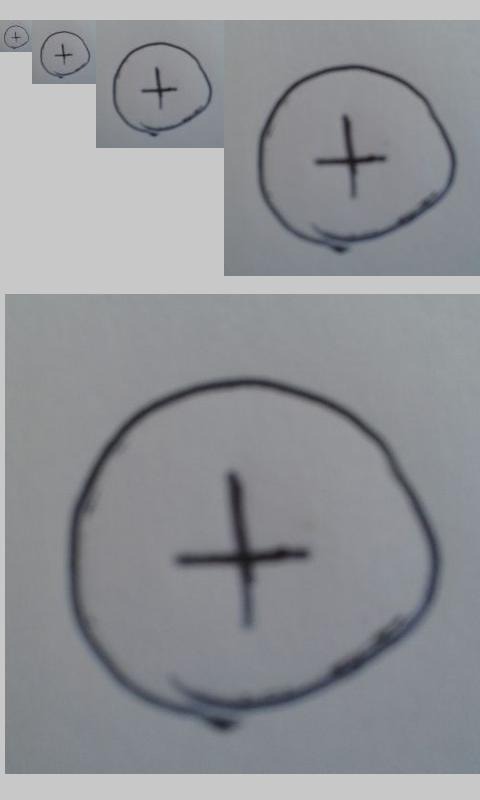button: (65, 372, 444, 730), (257, 63, 457, 252), (112, 41, 213, 135), (39, 30, 91, 78), (4, 25, 29, 49)
